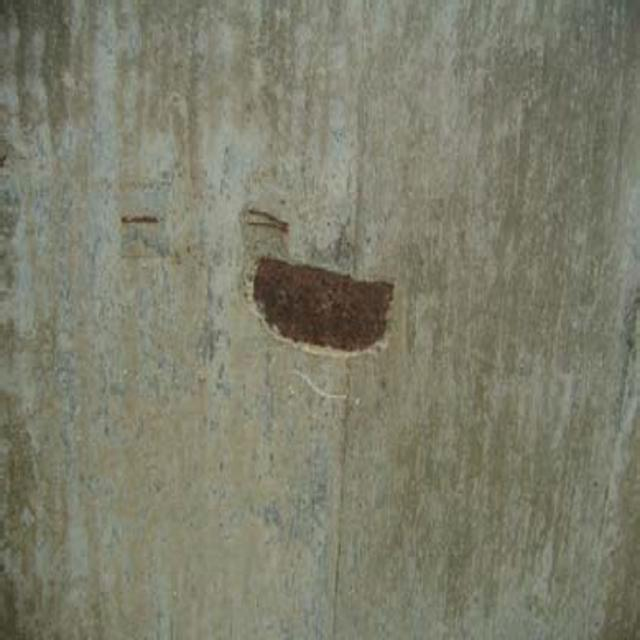spalling: (224, 207, 409, 382)
